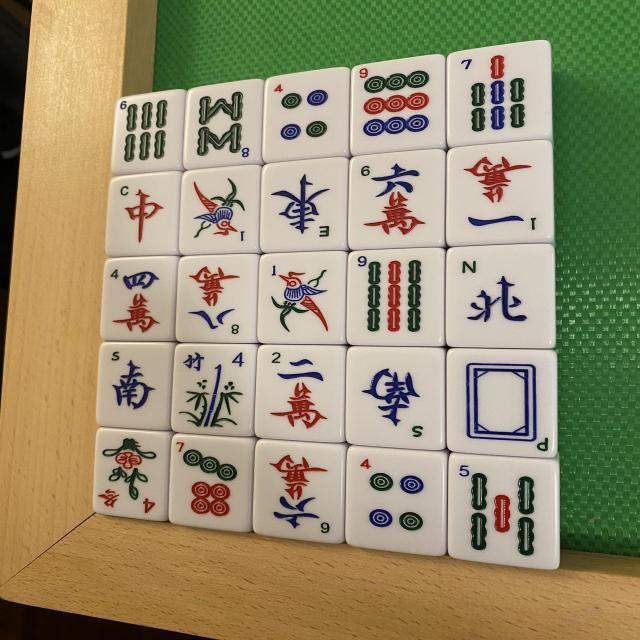bf4: (172, 342, 255, 437)
bs4: (96, 430, 172, 522)
hdr: (108, 174, 182, 258)
hdw: (444, 352, 552, 462)
hwe: (260, 160, 346, 254)
hwn: (447, 244, 553, 348)
hws: (350, 353, 438, 442), (98, 341, 173, 431)
sb1: (180, 167, 259, 256), (266, 260, 338, 338)
sb5: (444, 450, 554, 566)
sb6: (114, 92, 183, 175)
sb7: (444, 50, 544, 150)
sb8: (186, 81, 264, 171)
sb9: (346, 247, 440, 346)
sc1: (446, 143, 550, 249)
sc2: (261, 352, 338, 437)
sc4: (104, 257, 178, 342)
sc6: (347, 152, 441, 252), (254, 440, 345, 542)
sc8: (186, 260, 250, 340)
sd4: (348, 452, 436, 547), (264, 69, 349, 160)
sd7: (168, 432, 250, 528)
sd9: (349, 56, 442, 154)
